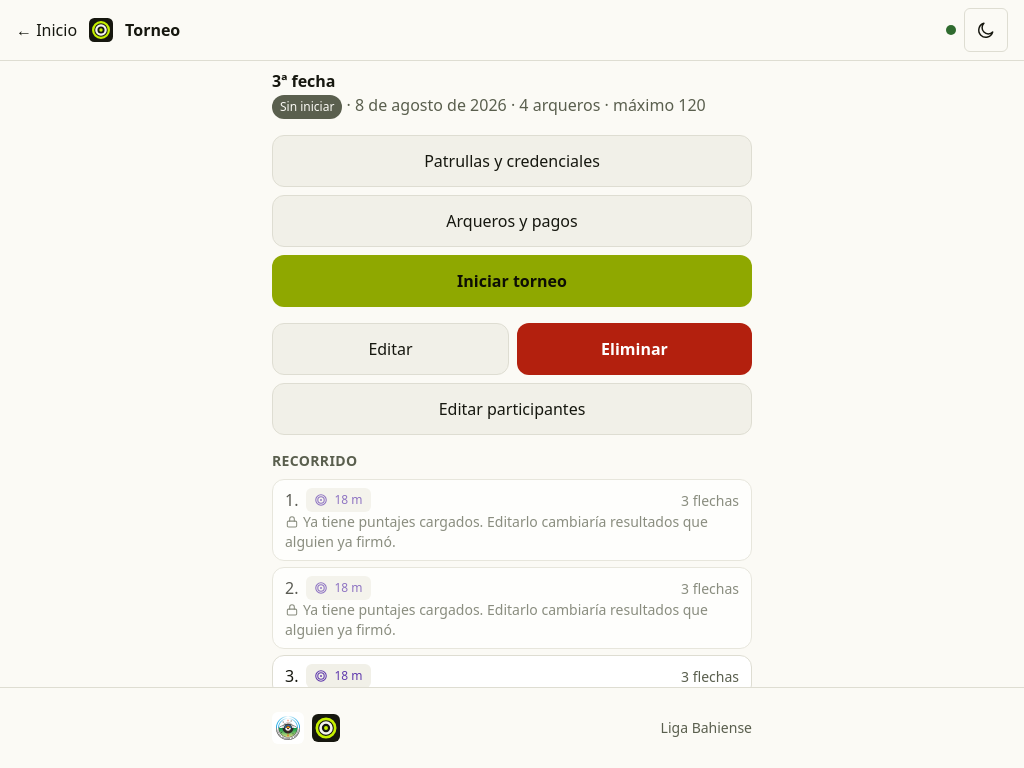
Test case: iniciar el torneo › el primer toque no inicia: pregunta
Click the button "Iniciar torneo" at (512, 281), box [272,255,752,307]
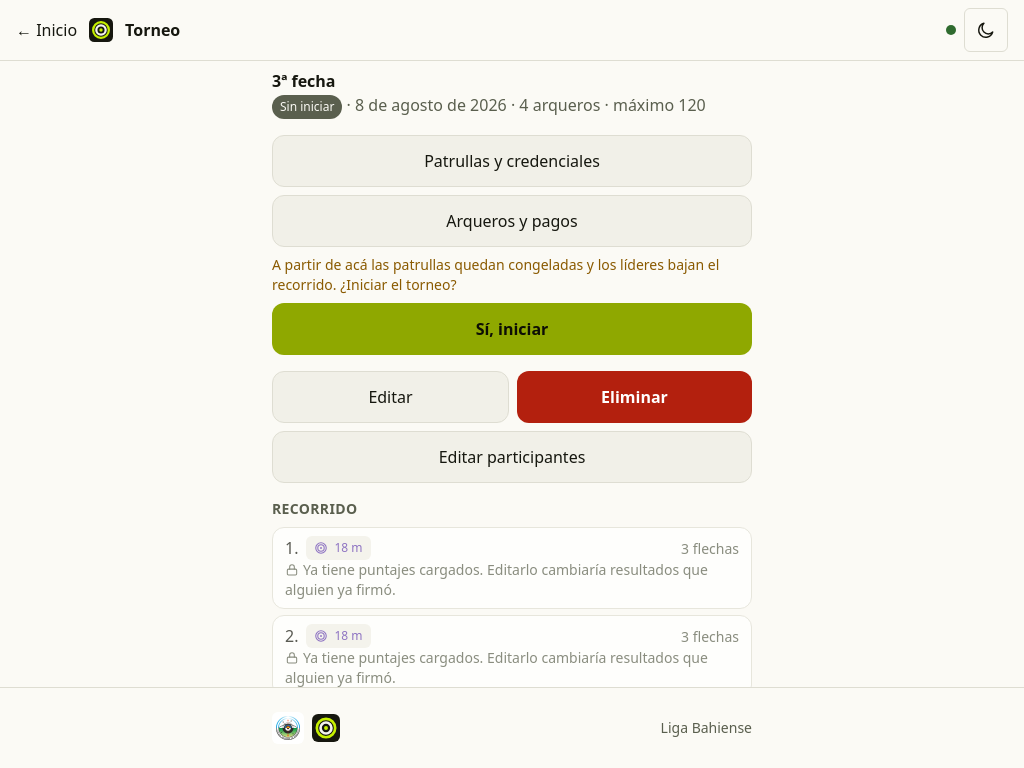
Expected: the text "¿Iniciar el torneo?" is shown, [272,255,719,294]
